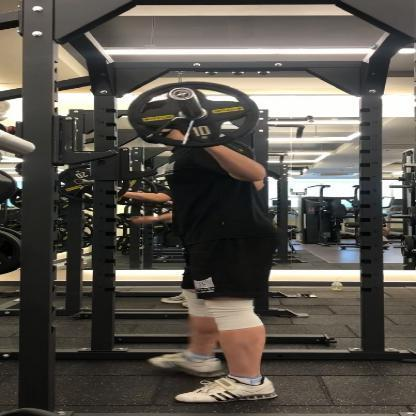barbell: (129, 80, 260, 149)
